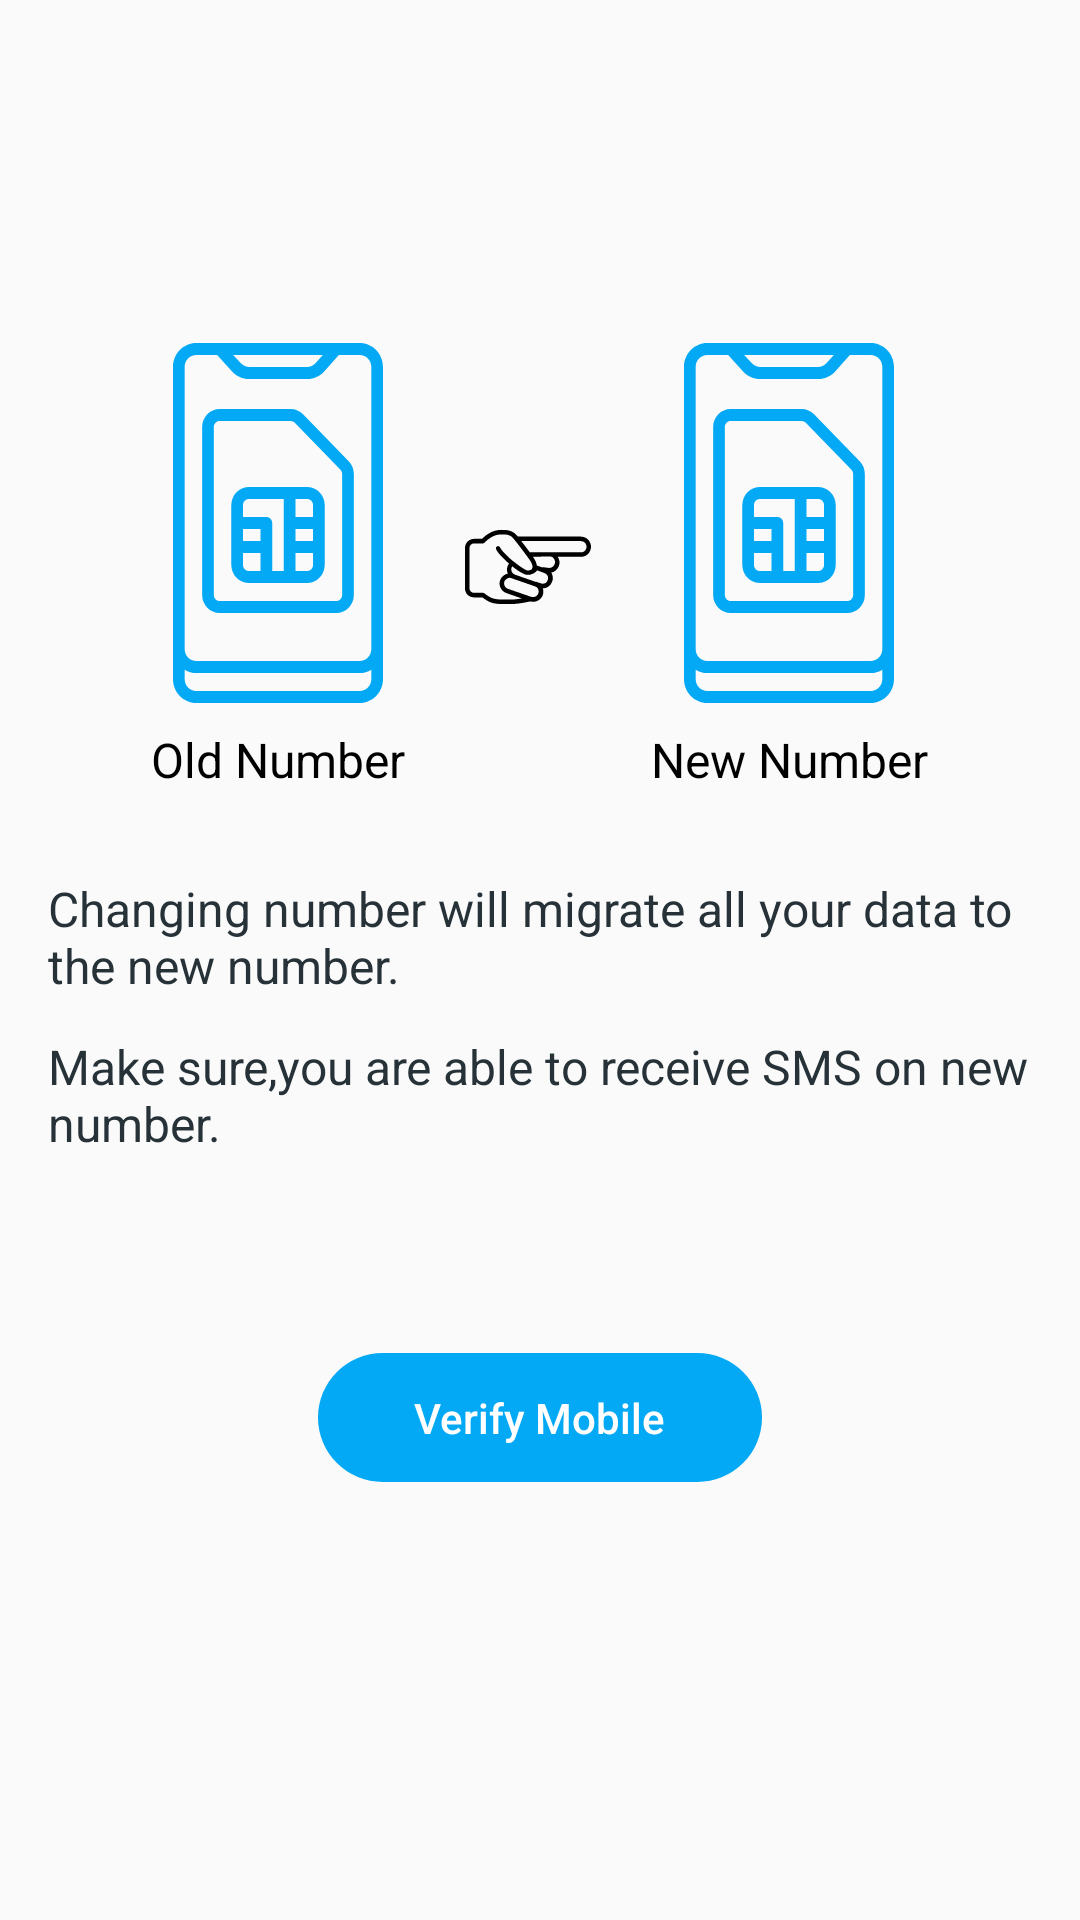

Named icons in this screenshot (1080w x 1920h) and their centers, (x=x, y=y):
pointing right: (x=528, y=566)
sim card: (x=278, y=523), (x=789, y=523)
